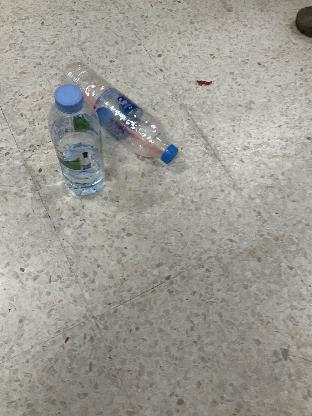Plastic Bottle: (62, 62, 180, 164), (48, 86, 106, 197)
